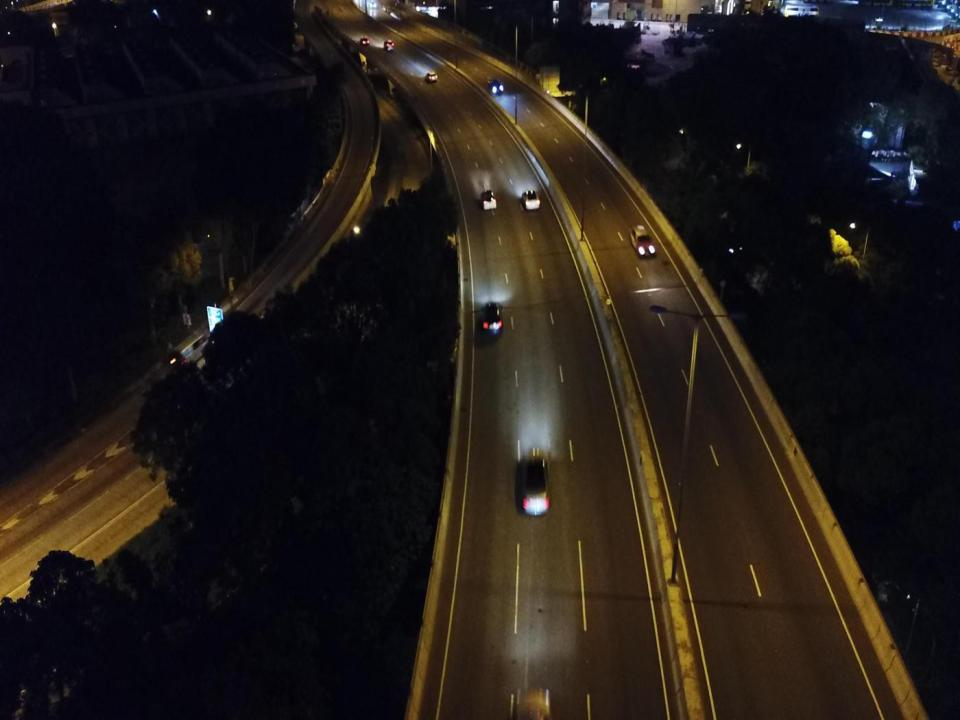bus: (784, 4, 819, 19), (900, 0, 934, 7)
car: (520, 448, 550, 517), (629, 223, 655, 260), (484, 302, 503, 340), (522, 188, 539, 209), (482, 189, 497, 209), (488, 80, 503, 93), (426, 72, 437, 82), (360, 36, 369, 44)
van: (173, 331, 212, 369), (383, 38, 394, 50)
